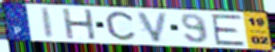9: (179, 12, 211, 45)
C: (104, 10, 138, 42)
E: (210, 14, 248, 47)
H: (61, 8, 99, 41)
I: (39, 6, 55, 40)
V: (135, 11, 171, 44)
